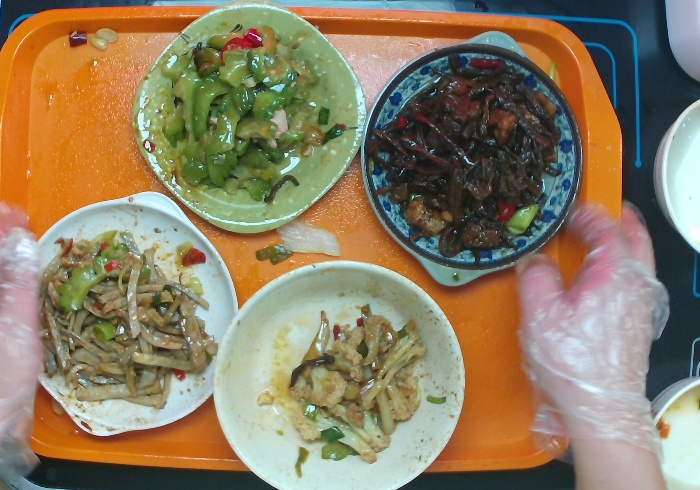NLDX-Bai_Se_Shuang_Er_Die: (30, 191, 238, 439)
NLDX-Bai_Se_Yuan_Wan: (216, 261, 469, 490)
NLDX-Lv_Hua_Fang_Die: (133, 3, 366, 233)
NLDX-Qing_Hua_Shuang_Er_Die: (360, 28, 584, 288)
